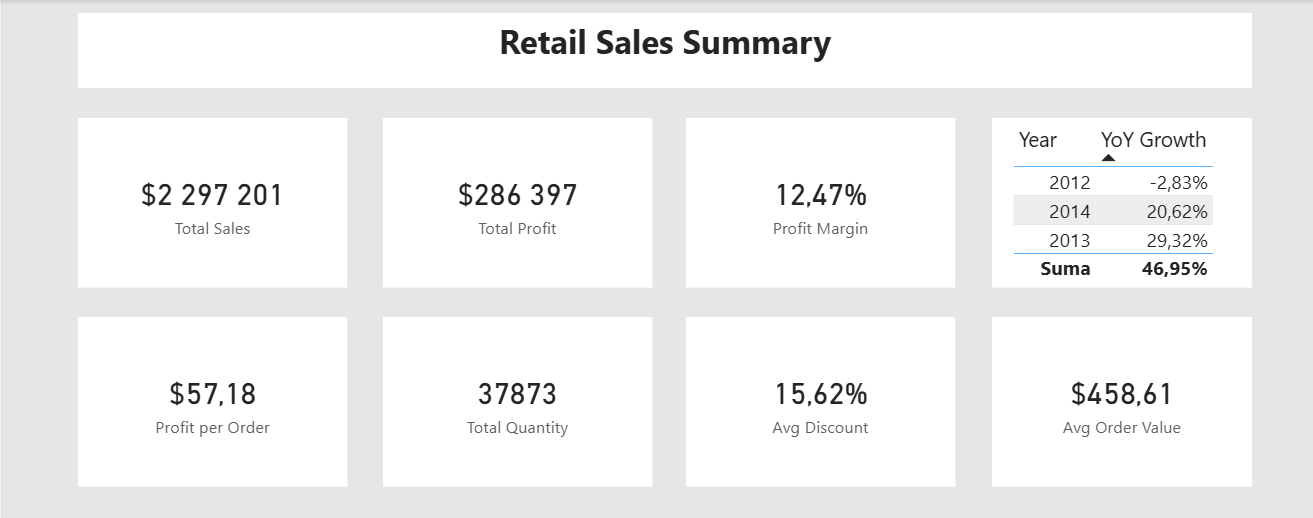

This screenshot's page, from the dashboard's own definition file:
{"tool":"powerbi","page":{"name":"Overview","canvas":[1280,720],"ordinal":0},"visuals":[{"type":"card","fields":{"Values":["FactOrders.Total Sales"]},"box":[73.9,114.8,261.6,165.3],"z":0},{"type":"card","fields":{"Values":["FactOrders.Total Profit"]},"box":[370.6,114.8,261.6,165.3],"z":1000},{"type":"card","fields":{"Values":["FactOrders.Profit Margin"]},"box":[665.3,114.8,261.6,165.3],"z":2000},{"type":"textbox","box":[73.9,12.6,1141.9,72.9],"z":3000},{"type":"tableEx","fields":{"Values":["DimDate.Year","FactOrders.YoY Growth %"]},"box":[962.9,114.8,252.9,165.3],"z":4000},{"type":"card","fields":{"Values":["FactOrders.Profit per Order"]},"box":[73.9,308.3,261.6,165.3],"z":5000},{"type":"card","fields":{"Values":["FactOrders.Avg Discount"]},"box":[665.3,308.3,261.6,165.3],"z":6000},{"type":"card","fields":{"Values":["FactOrders.Avg Order Value"]},"box":[962.9,308.3,252.9,165.3],"z":7000},{"type":"card","fields":{"Values":["FactOrders.Total Quantity"]},"box":[370.6,308.3,261.6,165.3],"z":8000}]}

Visuals, with their boxes on the page's 1280x720 design canvas (x1, y1, x2, y2). These are canvas units, not pixel positions in the 1313x518 screenshot, which may show the page scaled, cropped or inside an application window:
card - FactOrders.Total Sales: 74,115,336,280
card - FactOrders.Total Profit: 371,115,632,280
card - FactOrders.Profit Margin: 665,115,927,280
textbox: 74,13,1216,86
tableEx - DimDate.Year x FactOrders.YoY Growth %: 963,115,1216,280
card - FactOrders.Profit per Order: 74,308,336,474
card - FactOrders.Avg Discount: 665,308,927,474
card - FactOrders.Avg Order Value: 963,308,1216,474
card - FactOrders.Total Quantity: 371,308,632,474
